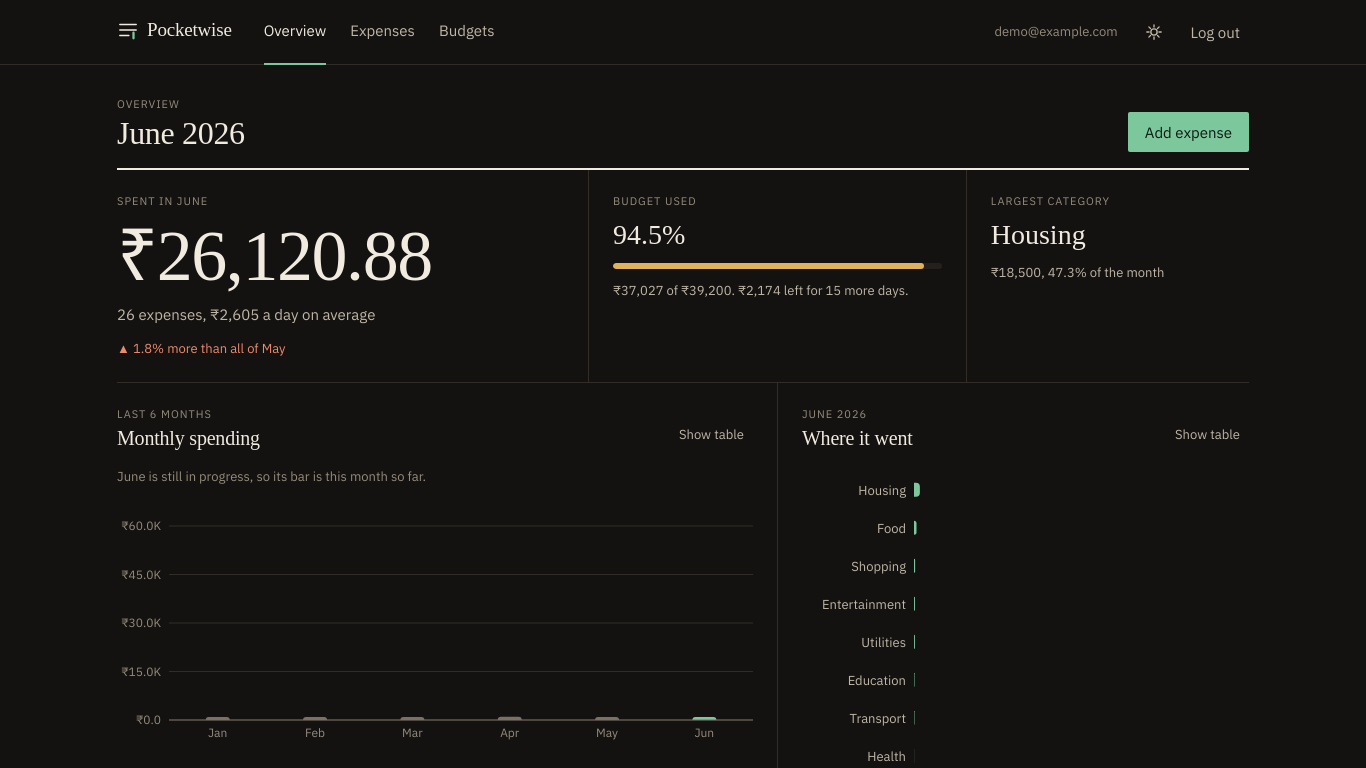
log out › clears the session and shows the login page without an "expired" notice
This screenshot has width=1366, height=768.
Click the button "Log out". click: (1215,32)
box: [1182, 12, 1249, 52]
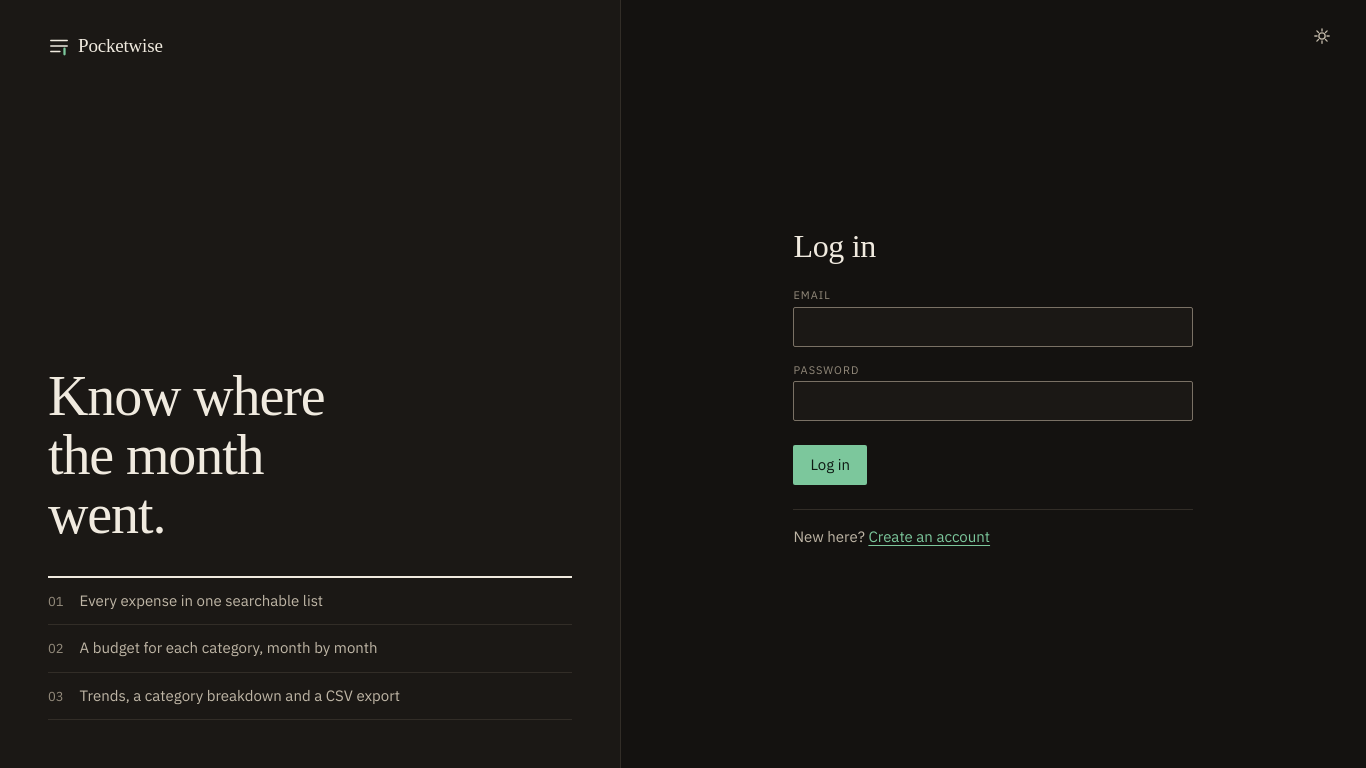
Result: the heading "Log in" is shown at [793, 228, 876, 264]
